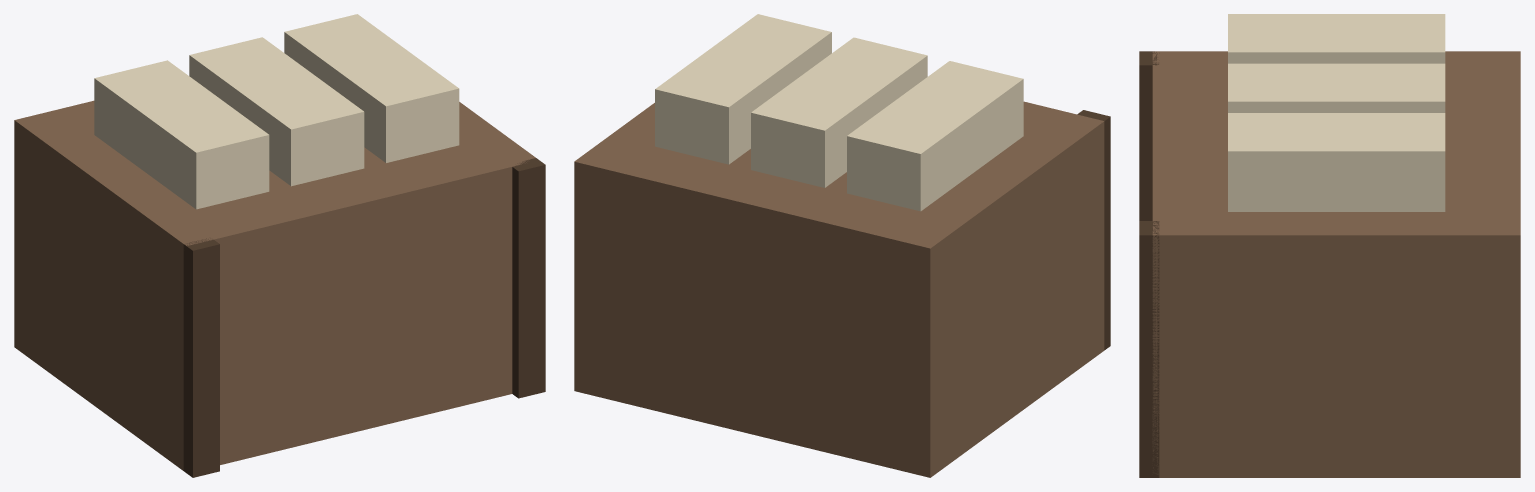
File: room_crate.glb
3 renders of one model, left to right at view 1: azimuth 30°, elevation 25°; view 2: azimuth 150°, elevation 25°; view 3: azimuth 270°, elevation 25°, orthographic. The views are drawn at different scales.
Visible parts, largest first — view 1: crate, provision loaf, provision loaf.001, provision loaf.002, brace, brace.001; view 2: crate, provision loaf, provision loaf.001, provision loaf.002, brace; view 3: crate, provision loaf.002, provision loaf, provision loaf.001, brace.001, brace.
Boxes of the visible parts, box(x1,y1,x2,y2) form: crate: box(14, 100, 535, 470); provision loaf: box(94, 60, 269, 209); provision loaf.001: box(189, 37, 364, 186); provision loaf.002: box(284, 14, 459, 162); brace: box(183, 238, 219, 477); brace.001: box(512, 158, 545, 398); crate: box(574, 101, 1104, 477); provision loaf: box(847, 61, 1023, 211); provision loaf.001: box(751, 37, 927, 187); provision loaf.002: box(655, 14, 831, 164); brace: box(1077, 110, 1110, 350); crate: box(1152, 51, 1520, 477); provision loaf.002: box(1228, 113, 1445, 211); provision loaf: box(1228, 14, 1445, 63); provision loaf.001: box(1228, 63, 1445, 112); brace.001: box(1139, 221, 1159, 477); brace: box(1139, 51, 1159, 220).
Bounding box in the file's own units: 1.3 × 1 × 1.14.
